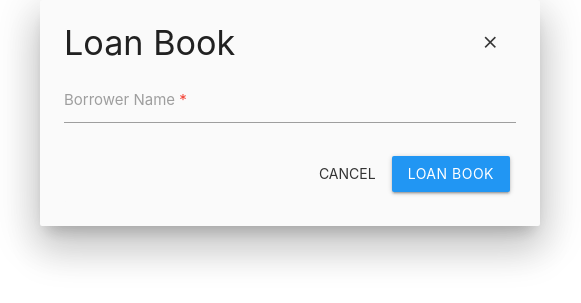
Test: LoanBookModal Component › should show specific error toast when book is already loaned (409)
Type "Jane Doe" into the field labelled "Borrower Name *". click: (290, 100)
box: [64,77,516,123]
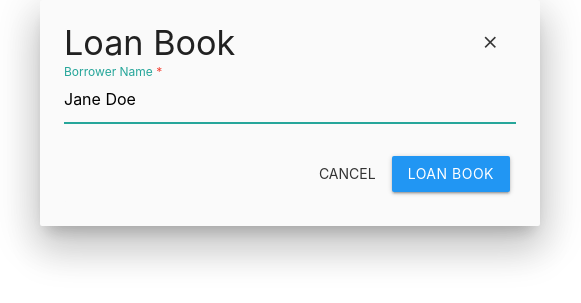
Click the button "Loan Book". click: (451, 174)
box: [392,156,510,192]
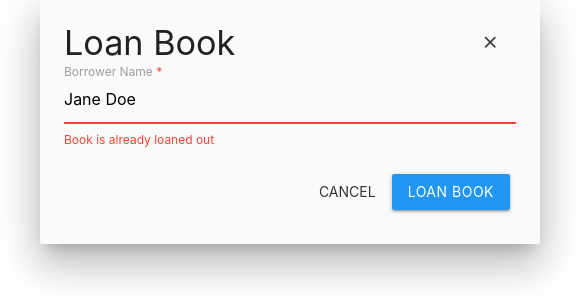
Check: the text "Book is already loaned out" is shown, box [64,132,214,147]
